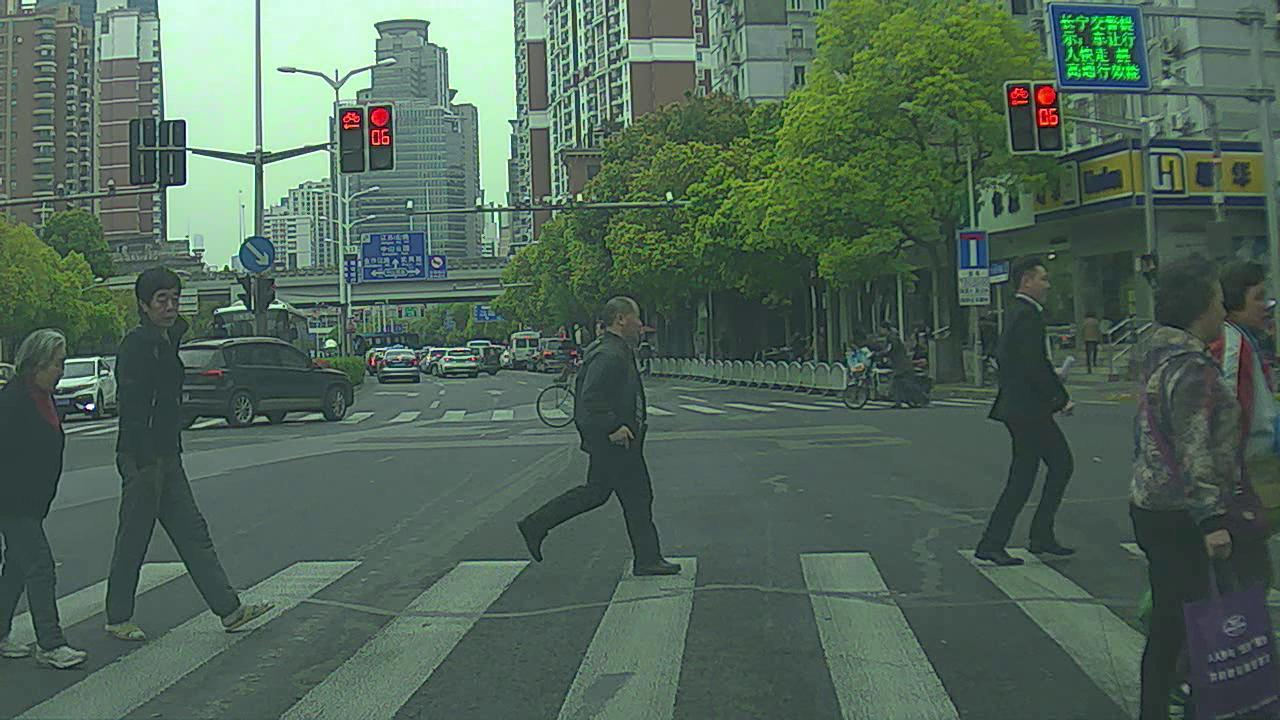traffic_light: (1036, 84, 1073, 152), (1003, 85, 1038, 155), (335, 110, 365, 169), (366, 109, 395, 170)
